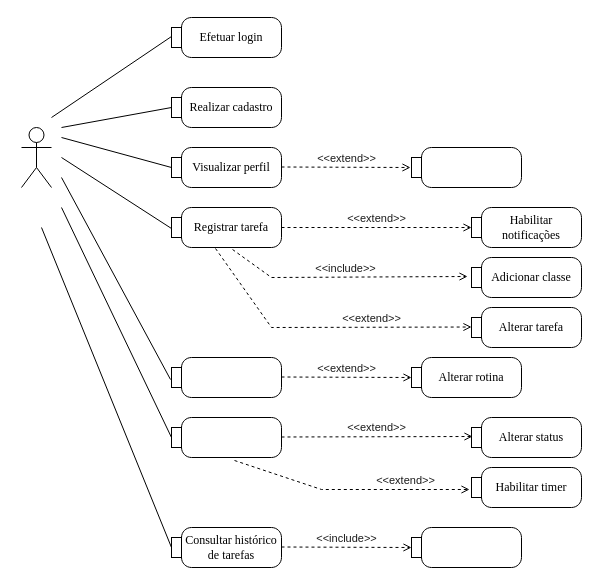
Some shapes in this 599 by 585 pixel diagram are drawn without their labels. The box of each missing label's shape, as (x1, y1, x2, y2) in pixels:
Consultar tarefa: (170, 416, 282, 458)
Editar perfil: (410, 146, 522, 188)
Registrar rotina: (170, 356, 282, 398)
Selecionar data: (410, 526, 522, 568)
Usuário: (20, 126, 52, 188)
